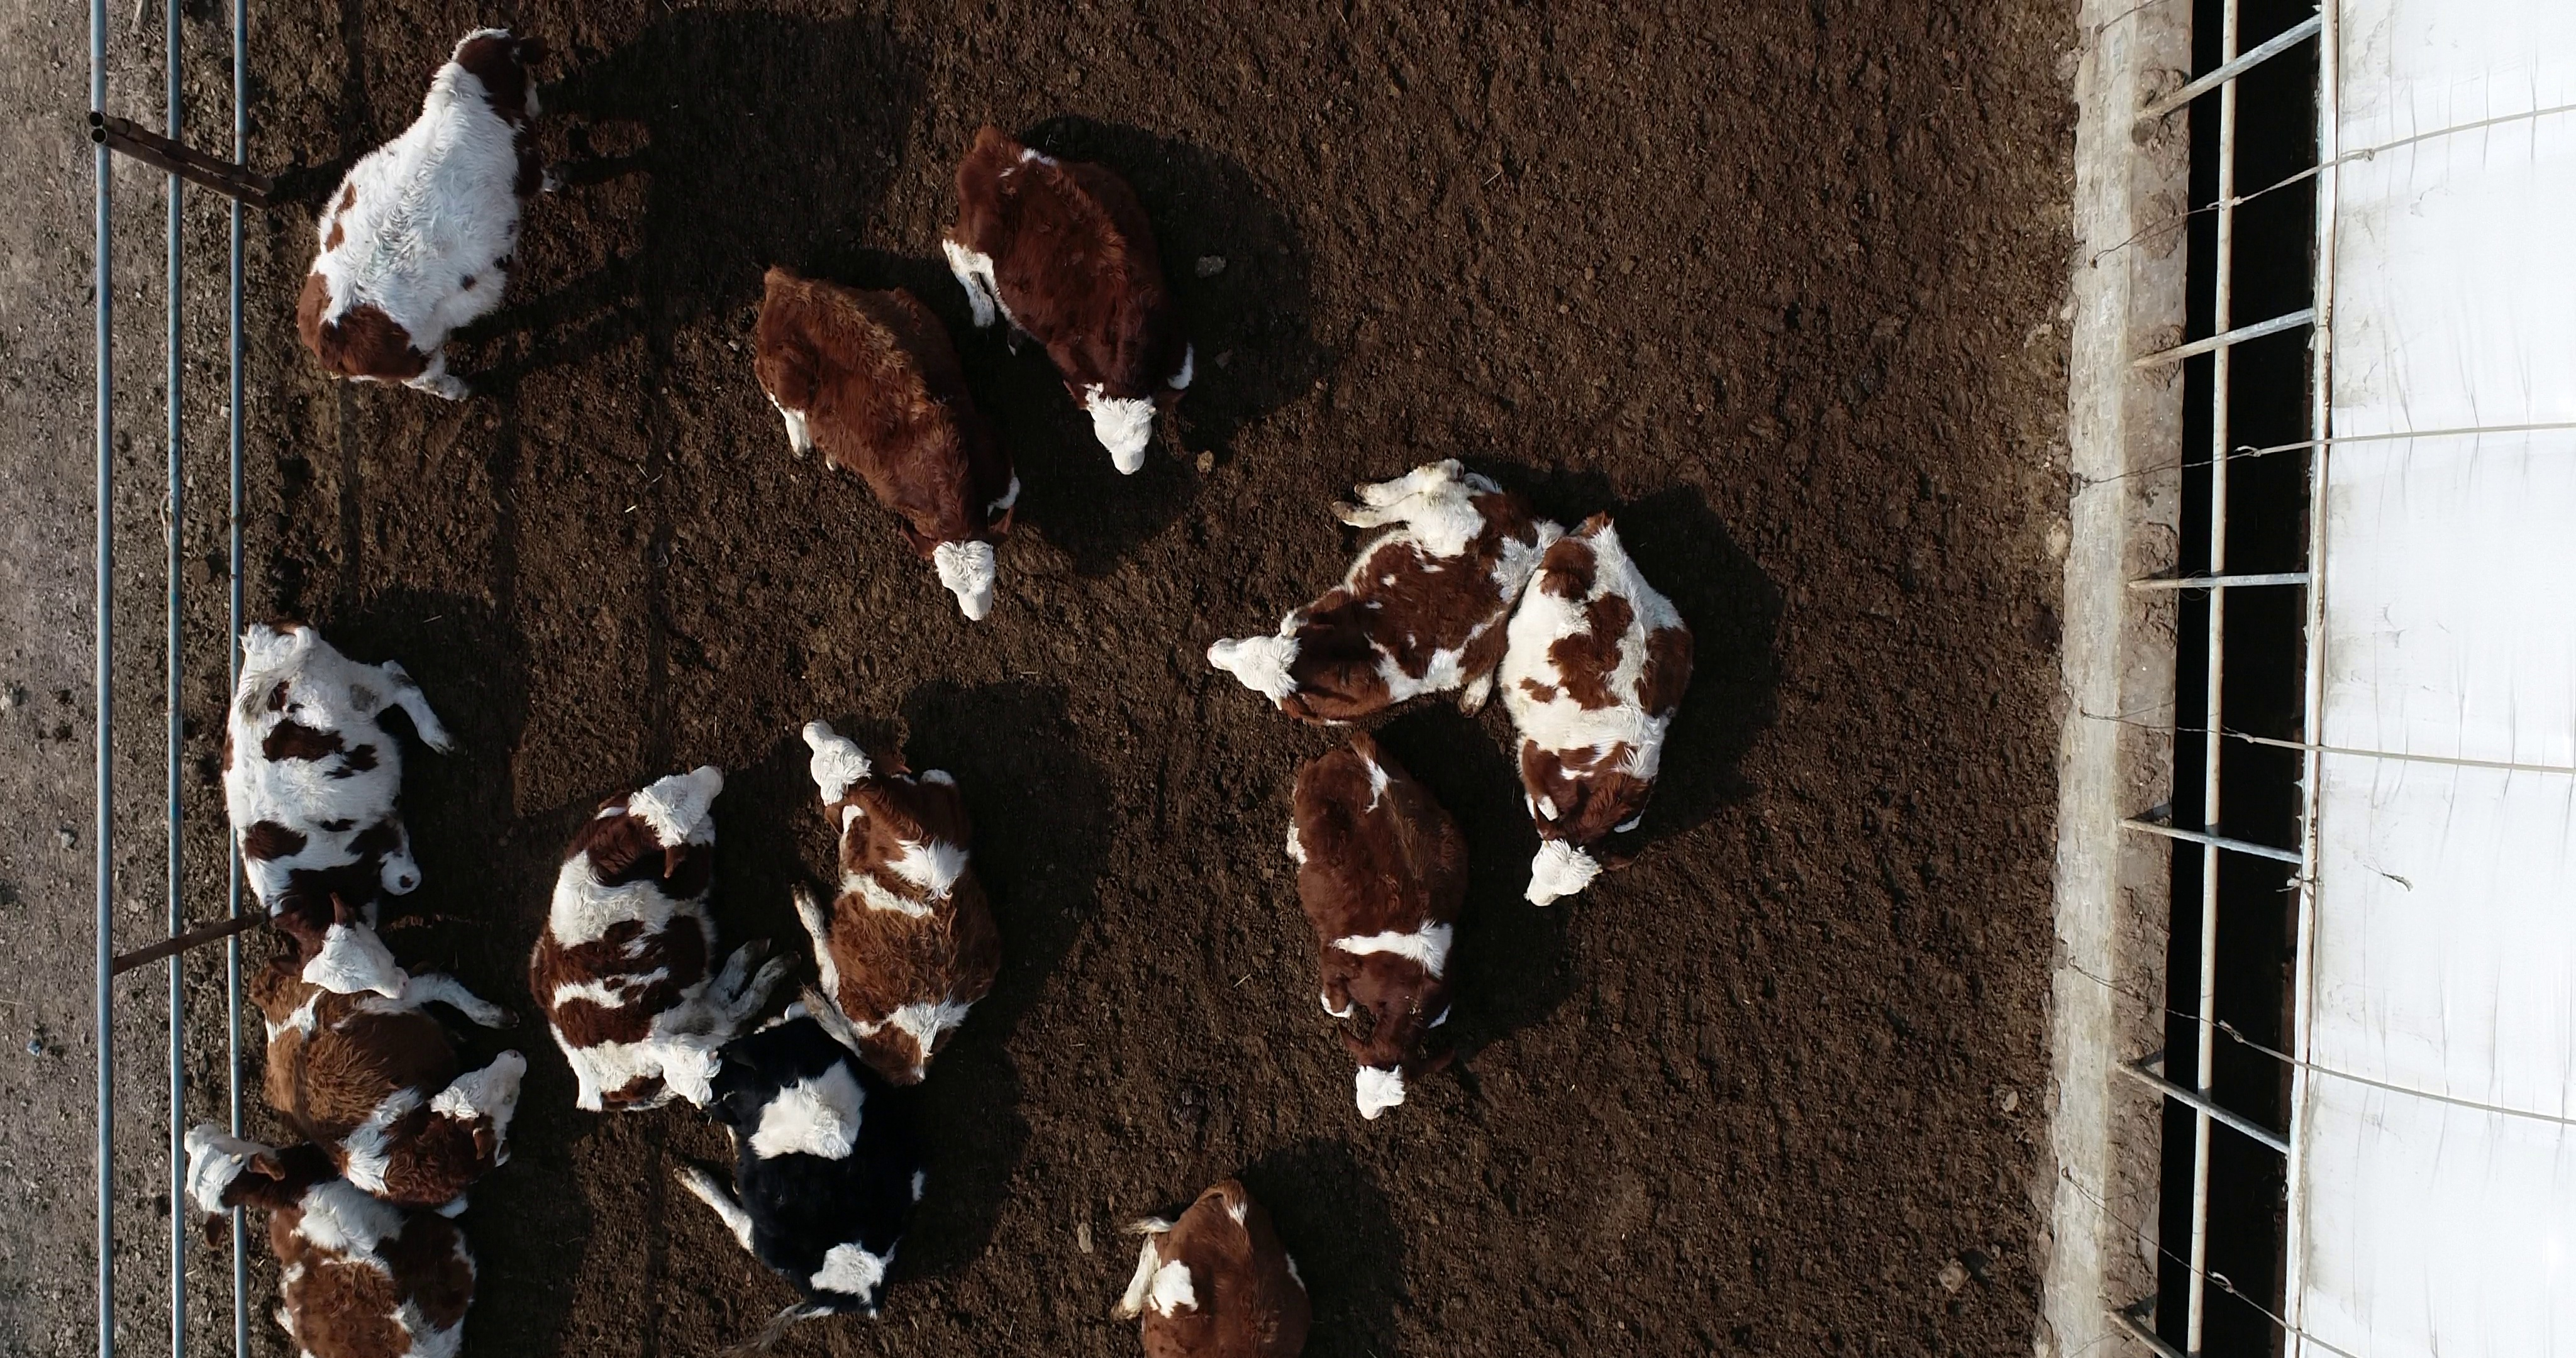cattle: (286, 20, 555, 414), (745, 259, 1029, 630), (521, 762, 796, 1126), (770, 702, 1015, 1097), (934, 118, 1199, 482), (1487, 501, 1705, 913), (1276, 729, 1482, 1121)
